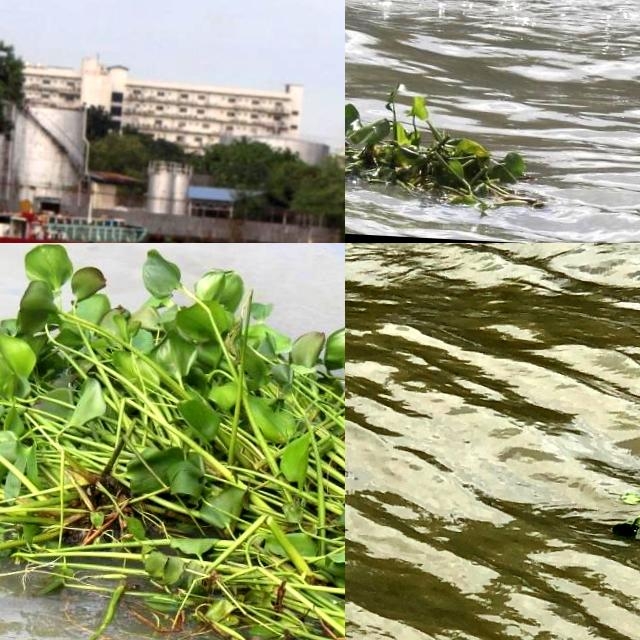water-hyacinth: (1, 244, 346, 640), (346, 94, 531, 209), (610, 482, 640, 541)
